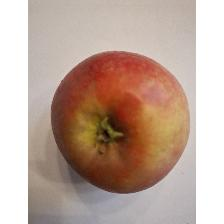Apfel: (48, 46, 194, 196)
